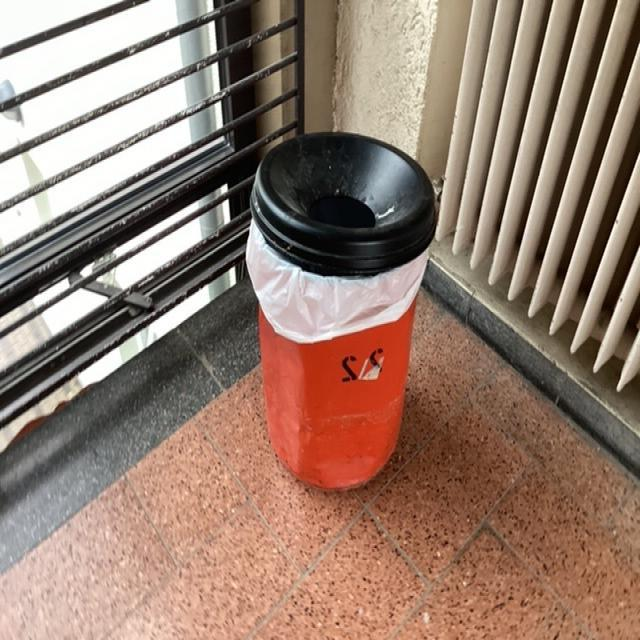garbage container: (235, 86, 453, 514)
